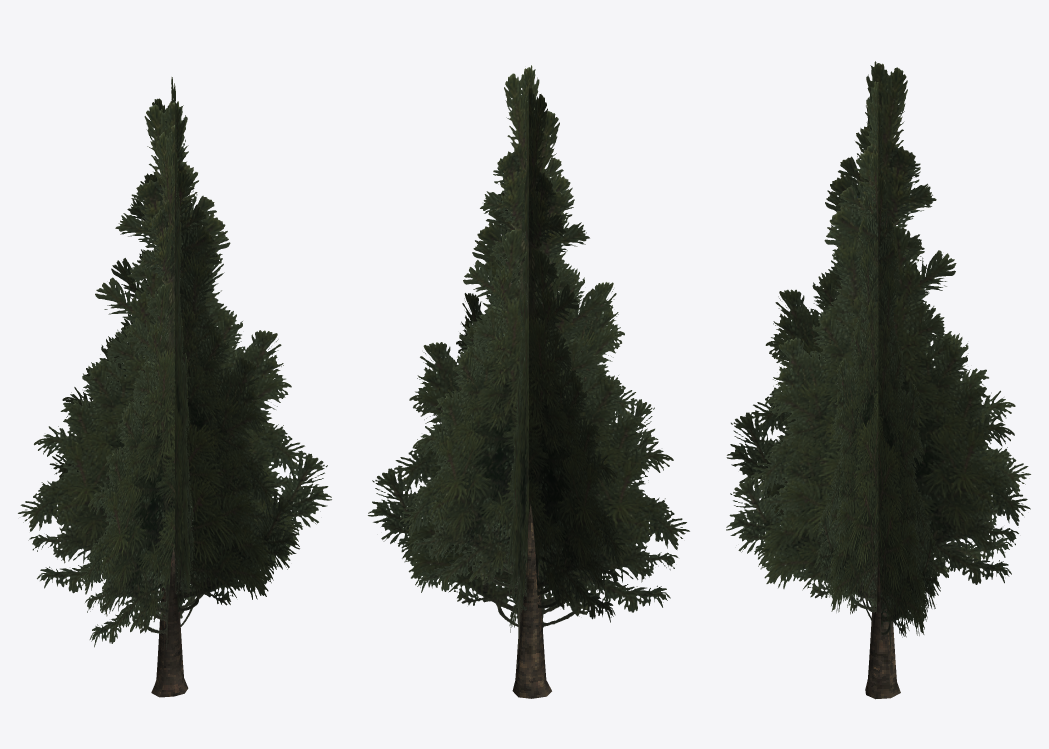
Rendered from tree_rt_1.obj.
3 views of the same model, side by side, from view 1: azimuth 30°, elevation 25°; view 2: azimuth 150°, elevation 25°; view 3: azimuth 270°, elevation 25° (orthographic). The views are drawn at different scales.
Parts seen in each view (by area): view 1: tree_rt_1; view 2: tree_rt_1; view 3: tree_rt_1.
Part boxes in pixels (bbox=[...]): tree_rt_1: bbox=[18, 77, 331, 697]; tree_rt_1: bbox=[368, 65, 689, 698]; tree_rt_1: bbox=[726, 61, 1030, 699].
Size of the model in its own units: 1 by 2.24 by 1.
